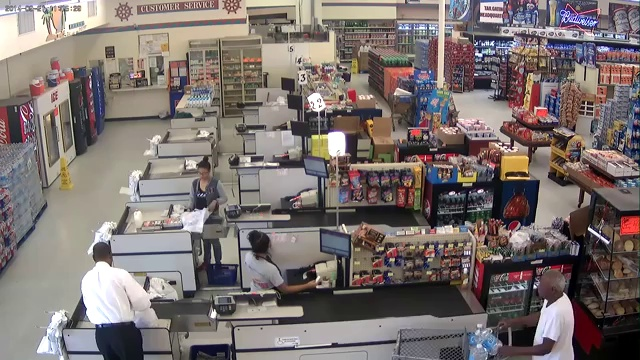face: (537, 274, 556, 298), (197, 166, 211, 182)
